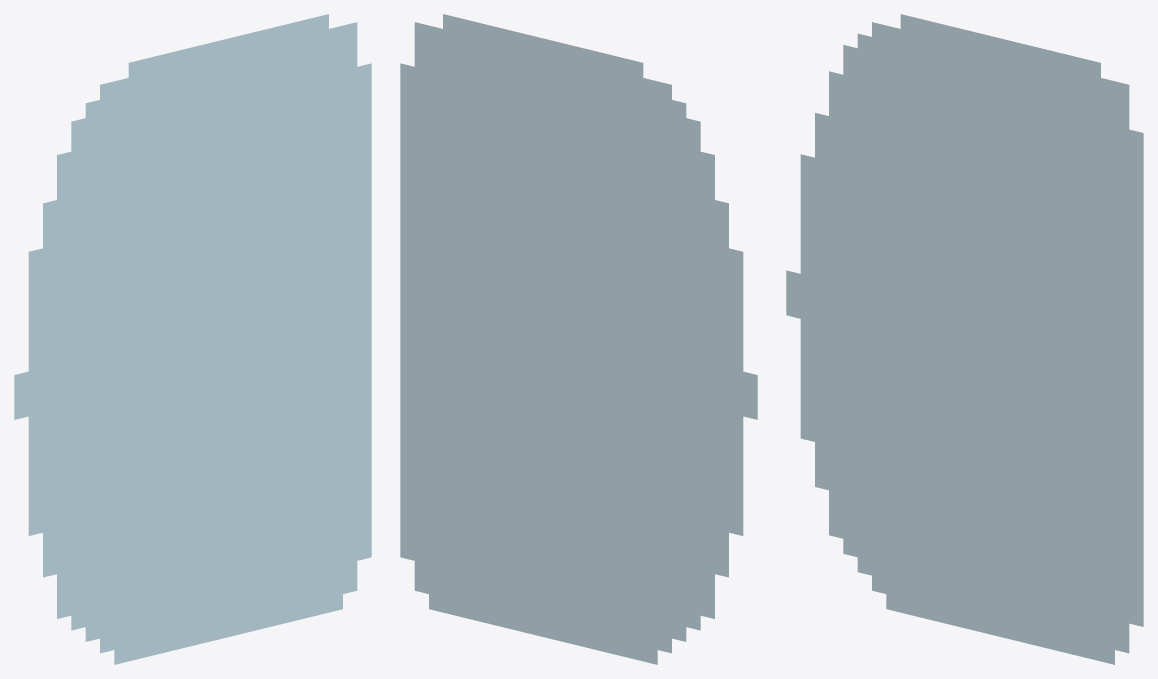
The model's file is wp_water_27.obj.
3 renders of one model, left to right at view 1: azimuth 30°, elevation 25°; view 2: azimuth 150°, elevation 25°; view 3: azimuth 330°, elevation 25°, orthographic.
Bounding box in the file's own units: 0.357 × 0.5711 × 0.
1 material, 1 textured.
